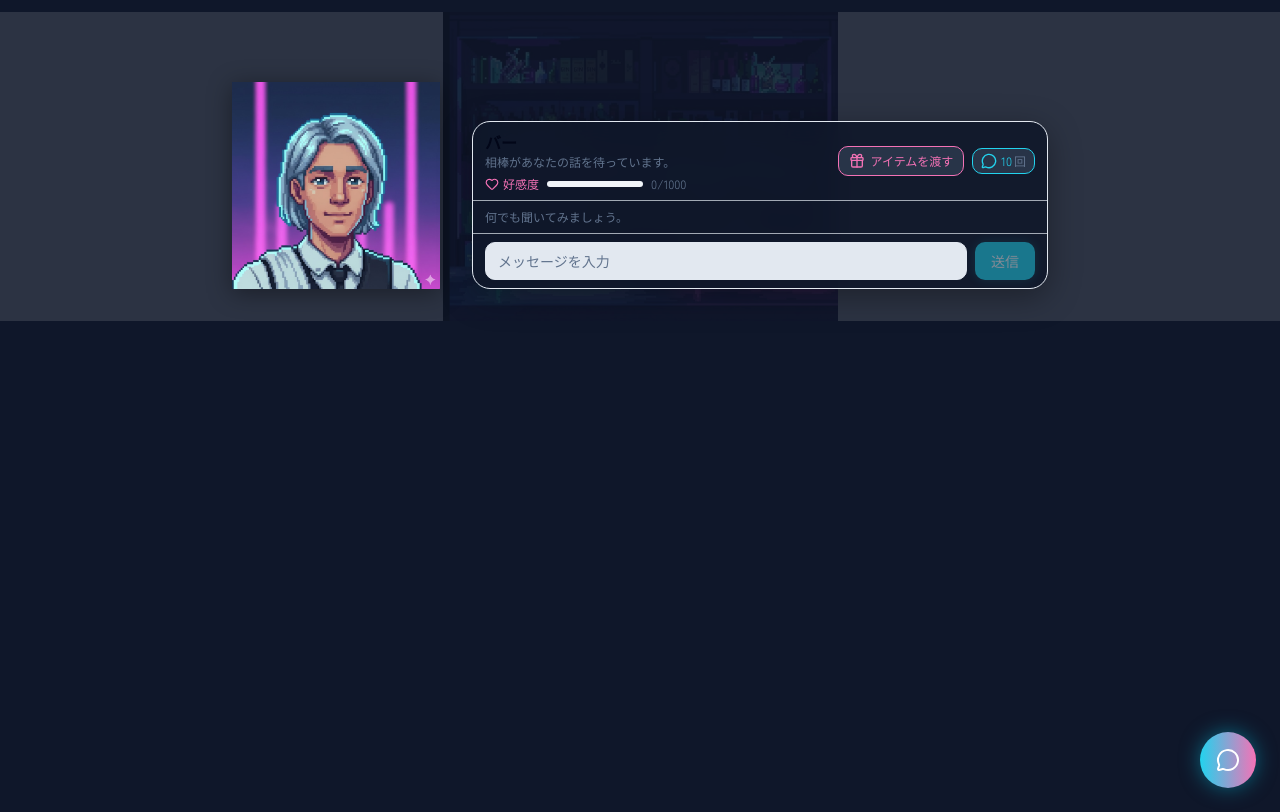
Scenario: PartnerPage and PartnerWidget shared variant (Task 7.4, Req 5.4) › page and widget both show partner image and same variant when under same Provider
Click the button named "チャットを開く" at (1228, 760), box [1200,732,1256,788]
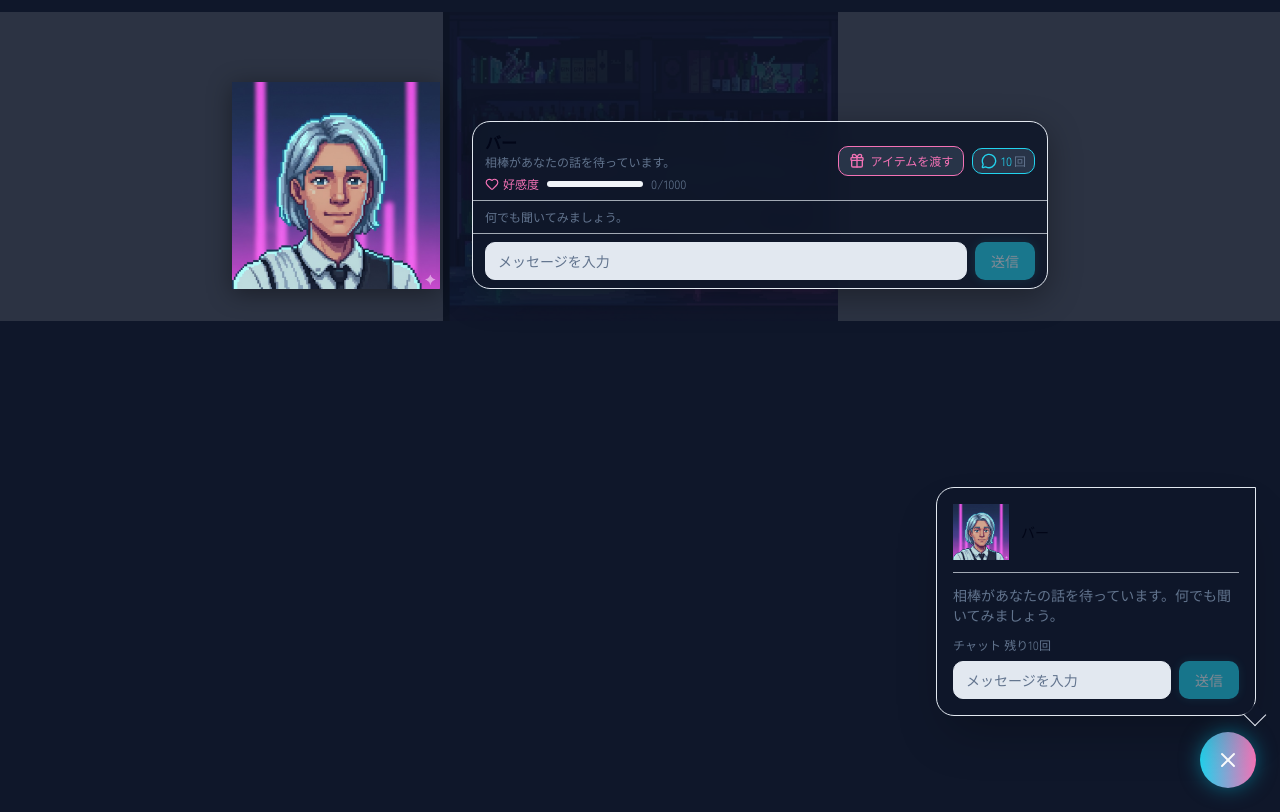
Check: the number of pictures named "AIパートナー" is 2, box [232,12,440,289]; [953,504,1009,560]
